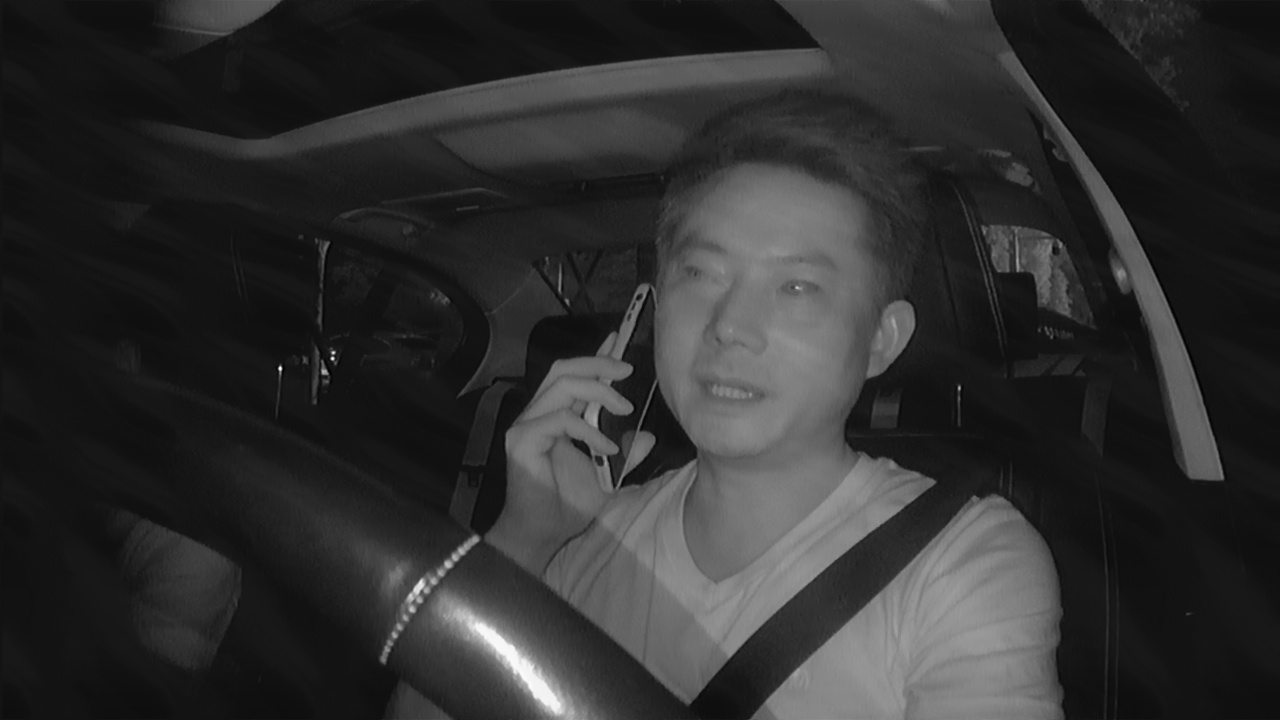hand: (493, 335, 656, 535)
